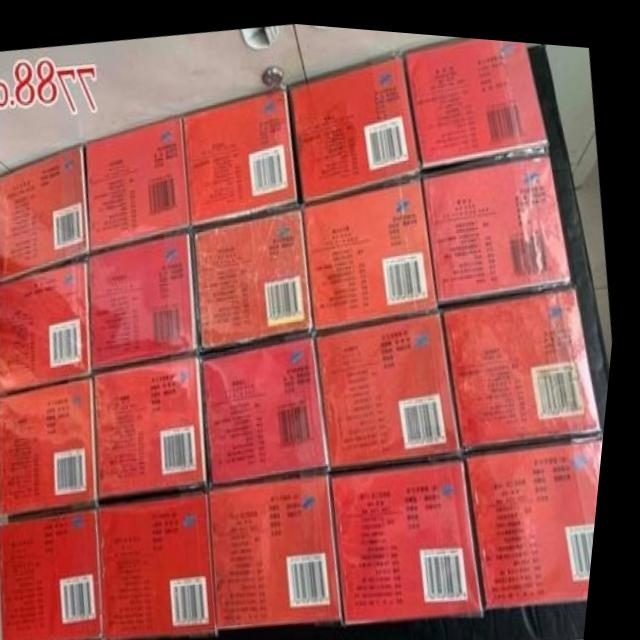box: (447, 278, 609, 444), (339, 449, 494, 618), (321, 302, 470, 466), (472, 425, 611, 600), (425, 145, 576, 298), (305, 168, 444, 324), (218, 467, 354, 626), (289, 47, 425, 198), (207, 331, 339, 484), (404, 30, 551, 167), (107, 487, 228, 637), (195, 202, 318, 349), (100, 352, 216, 499), (183, 83, 301, 225), (93, 227, 205, 367), (87, 111, 194, 250), (4, 376, 107, 517), (9, 508, 114, 640), (0, 141, 94, 283), (1, 260, 99, 394)
